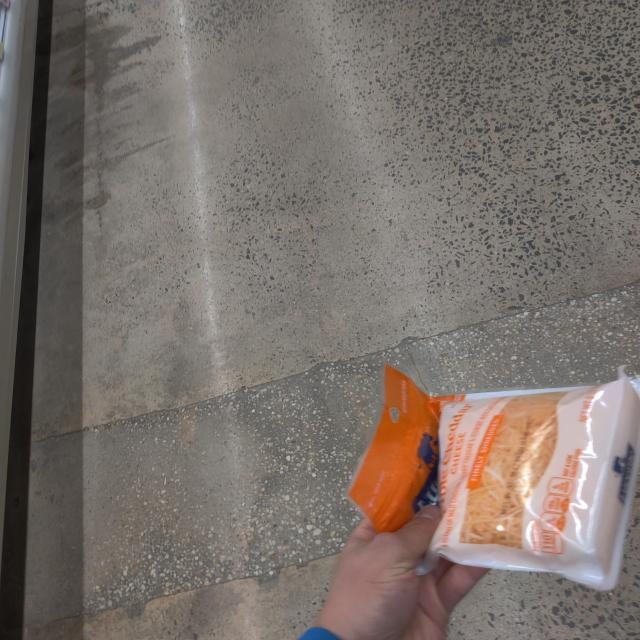Cheese: (343, 367, 640, 591)
